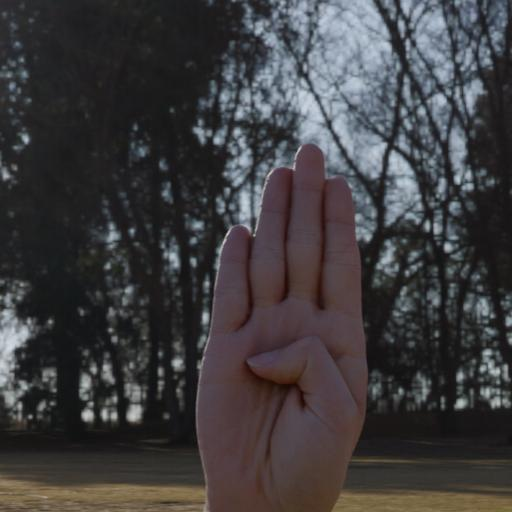B: (198, 141, 372, 497)
